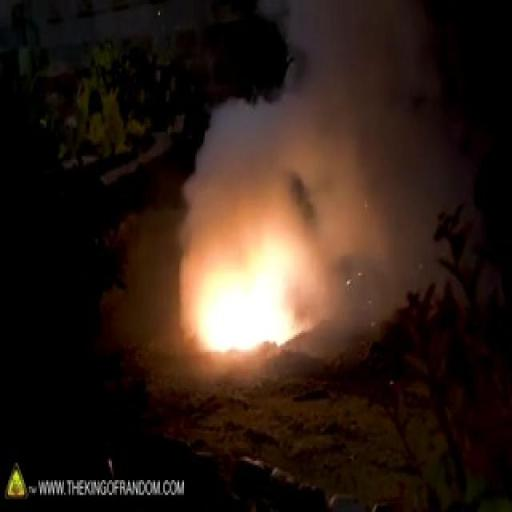smoke: (196, 192, 327, 358)
